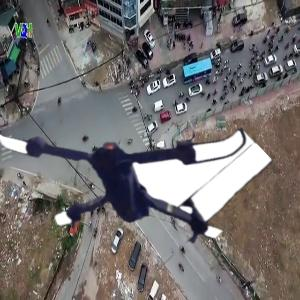drone: (2, 53, 238, 289)
